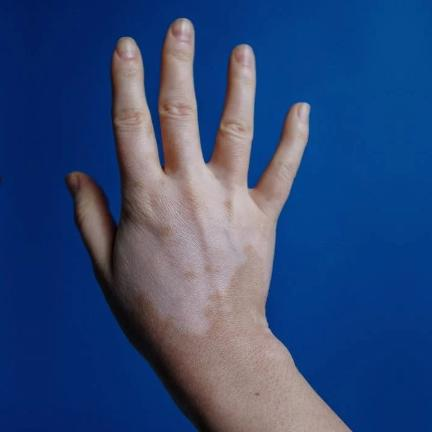Nail: (116, 37, 138, 63), (171, 19, 192, 44), (234, 44, 255, 68), (65, 172, 80, 198), (297, 102, 310, 124)
